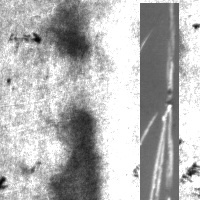patches: (51, 109, 100, 199), (44, 2, 93, 60), (141, 29, 183, 73)
scratches: (140, 3, 179, 200)
